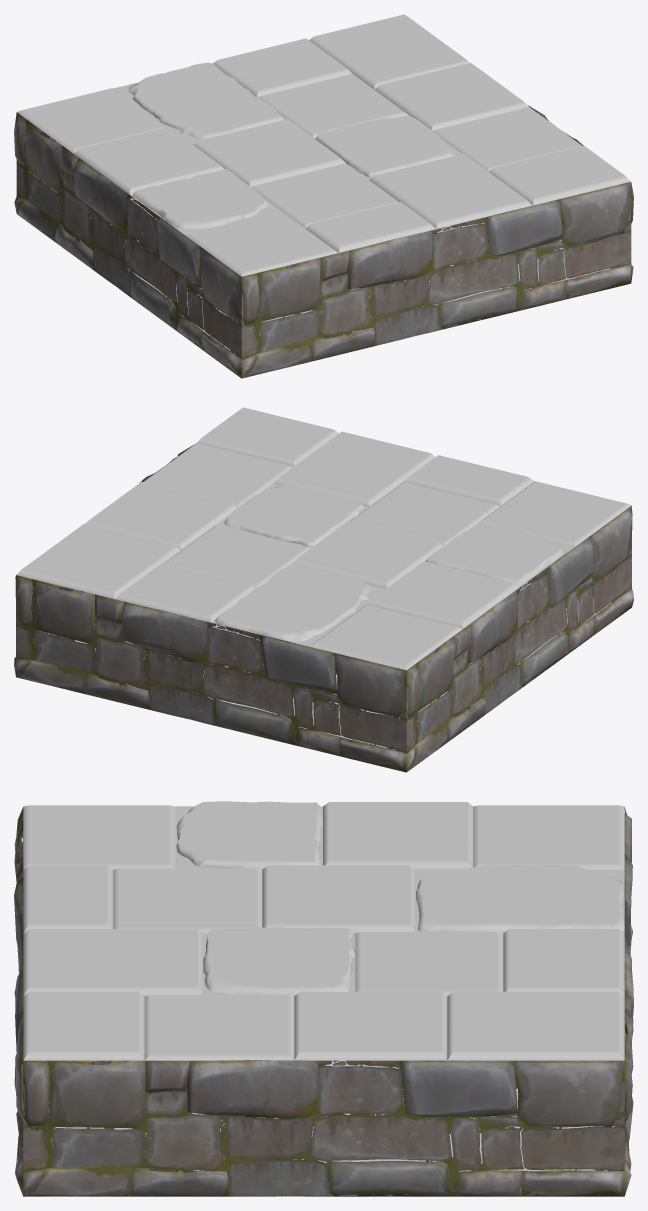
The picture shows the model from 3 angles, top to bottom: view 1: azimuth 30°, elevation 25°; view 2: azimuth 150°, elevation 25°; view 3: azimuth 270°, elevation 25°; orthographic projection. The views are drawn at different scales.
Visible parts, largest first — view 1: SM_Castle_Floor_4x4_01_v1_LOD0; view 2: SM_Castle_Floor_4x4_01_v1_LOD0; view 3: SM_Castle_Floor_4x4_01_v1_LOD0.
Boxes of the visible parts, x1,y1,x2,y2 form: SM_Castle_Floor_4x4_01_v1_LOD0: [14, 14, 633, 378]; SM_Castle_Floor_4x4_01_v1_LOD0: [14, 407, 633, 772]; SM_Castle_Floor_4x4_01_v1_LOD0: [14, 801, 633, 1196].
Bounding box in the file's own units: 4.12 × 1.05 × 4.12.
